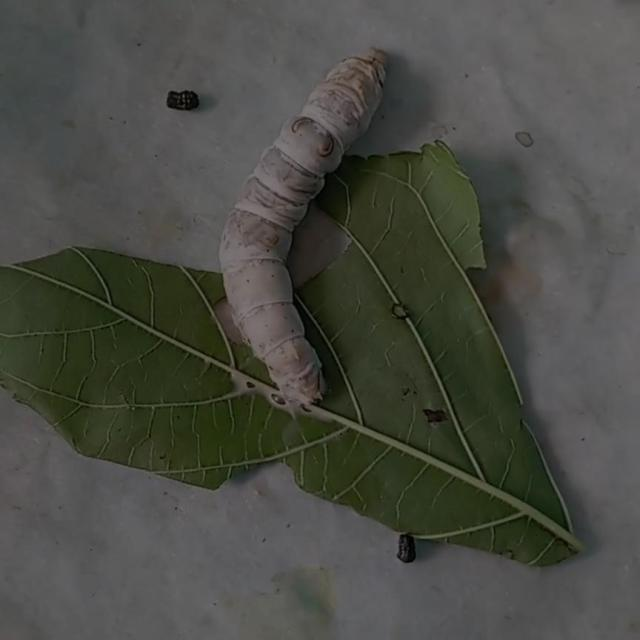Grasserie: (196, 24, 446, 444)
